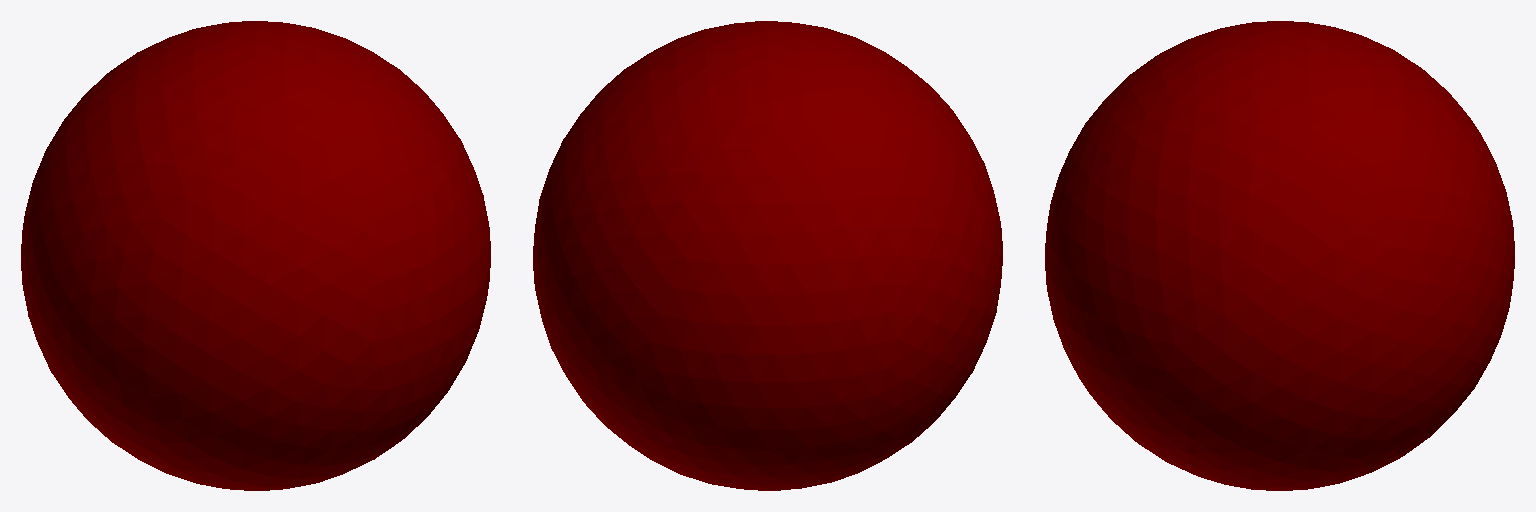
3 views of the same model, side by side, from view 1: azimuth 30°, elevation 25°; view 2: azimuth 150°, elevation 25°; view 3: azimuth 270°, elevation 25° (orthographic).
Visible parts, largest first — view 1: GeoSphere001; view 2: GeoSphere001; view 3: GeoSphere001.
Part boxes in pixels (bbox=[...]): GeoSphere001: bbox=[21, 21, 490, 490]; GeoSphere001: bbox=[533, 21, 1002, 490]; GeoSphere001: bbox=[1045, 21, 1514, 490].
Size of the model in its own units: 20 by 20 by 20.